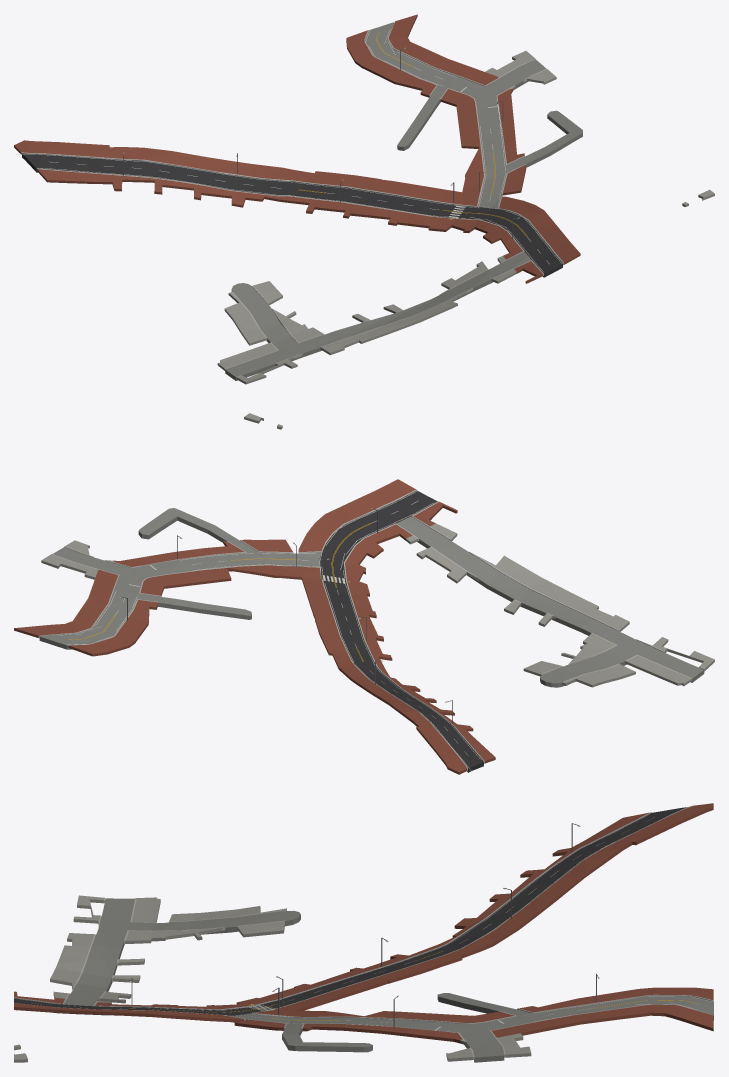
3 views of the same model, one above another, from view 1: azimuth 30°, elevation 25°; view 2: azimuth 150°, elevation 25°; view 3: azimuth 270°, elevation 25° (orthographic). The views are drawn at different scales.
Size of the model in its own units: 148 by 36.66 by 146.
